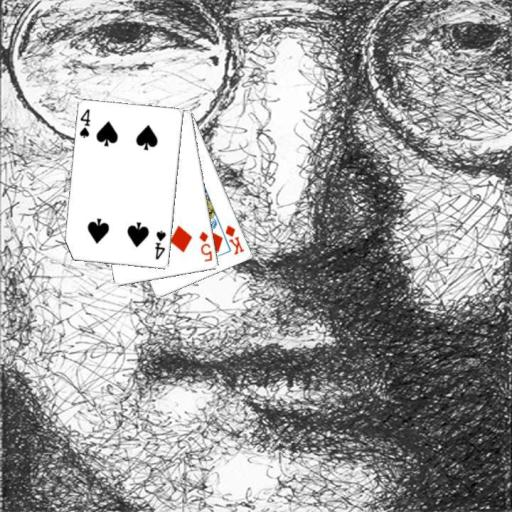4S: (152, 228, 168, 261), (77, 106, 92, 139)
5D: (196, 228, 214, 263)
KD: (222, 222, 246, 256)
